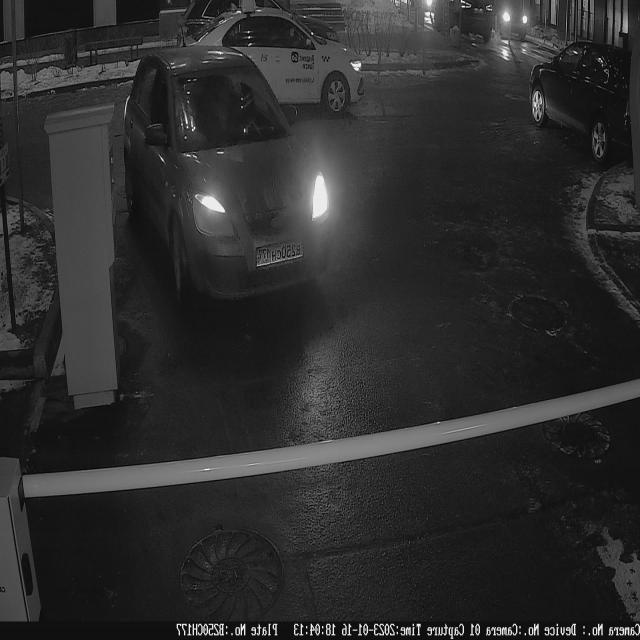car-plate-numbers: (254, 236, 306, 273)
